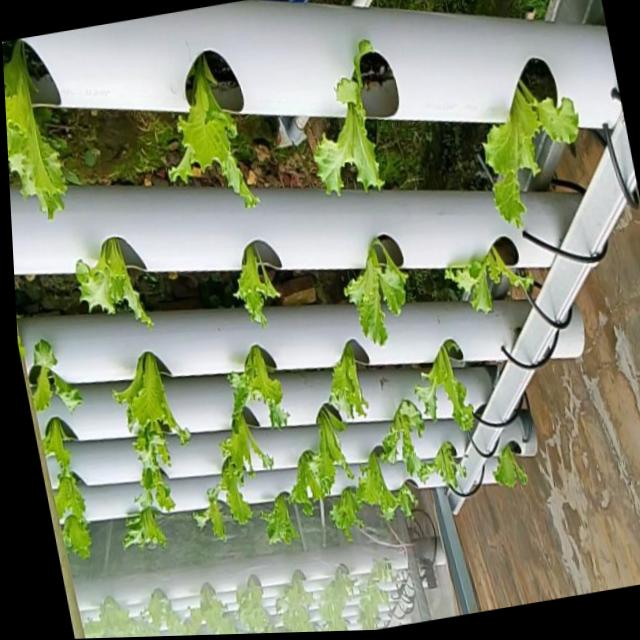Baby: (488, 83, 586, 232), (170, 56, 260, 211), (3, 40, 67, 220), (317, 42, 387, 196), (78, 239, 154, 330), (347, 243, 411, 351), (210, 409, 276, 506), (450, 253, 543, 321), (418, 344, 478, 436), (300, 405, 356, 502), (243, 468, 304, 553), (119, 353, 182, 433), (359, 452, 420, 524), (383, 402, 432, 483), (30, 340, 84, 413), (242, 347, 289, 429), (129, 409, 173, 495), (236, 248, 281, 330), (331, 344, 371, 422), (54, 471, 91, 550), (422, 444, 470, 496), (192, 485, 236, 541), (331, 488, 366, 543), (124, 506, 167, 547), (496, 452, 533, 494)
